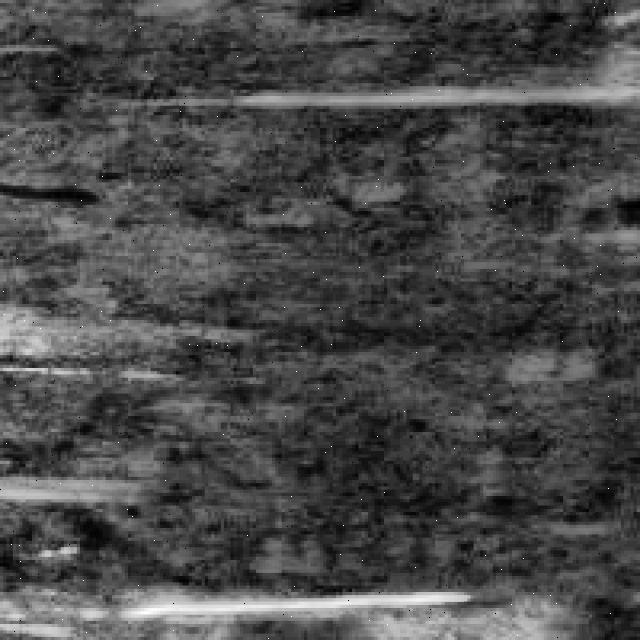Inclusion: (112, 560, 464, 621), (237, 64, 627, 112)
